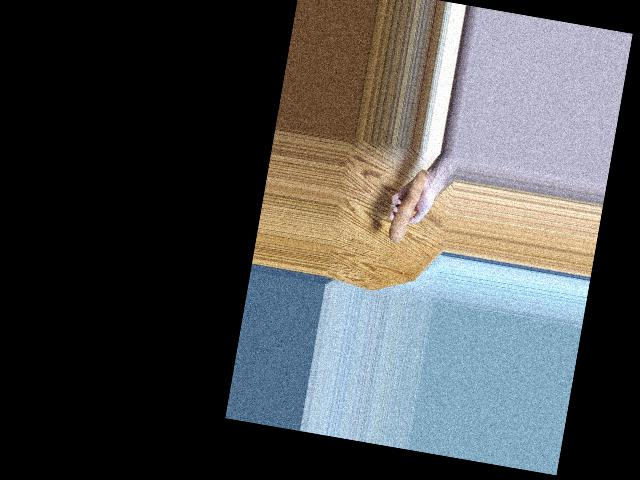sweet_potato: (385, 168, 426, 247)
